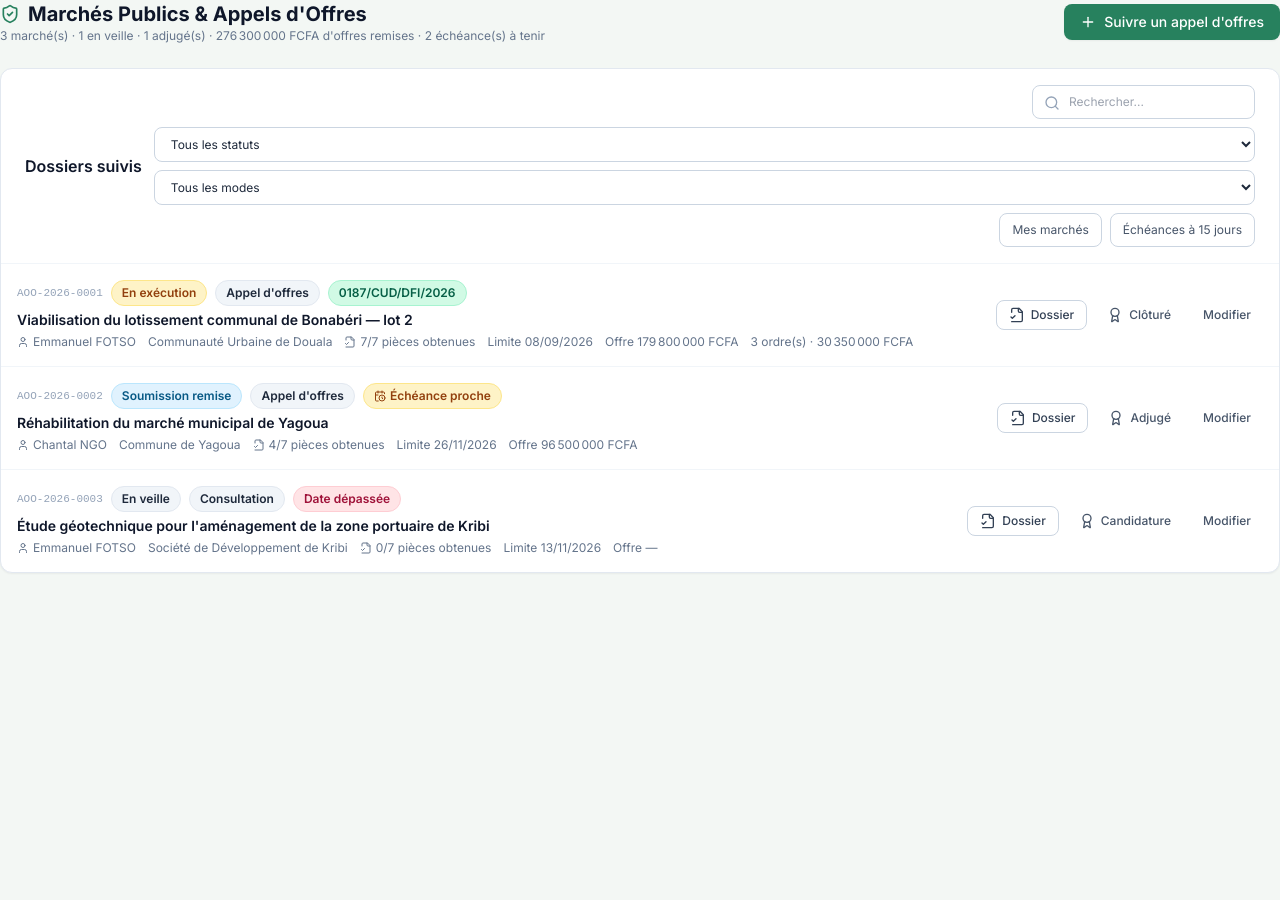
Test: TendersPage en mode démo › fait avancer une pièce du dossier et date son obtention dans le dépôt local
Click the 2nd button "Dossier": x=1043, y=418 [997, 403, 1088, 433]
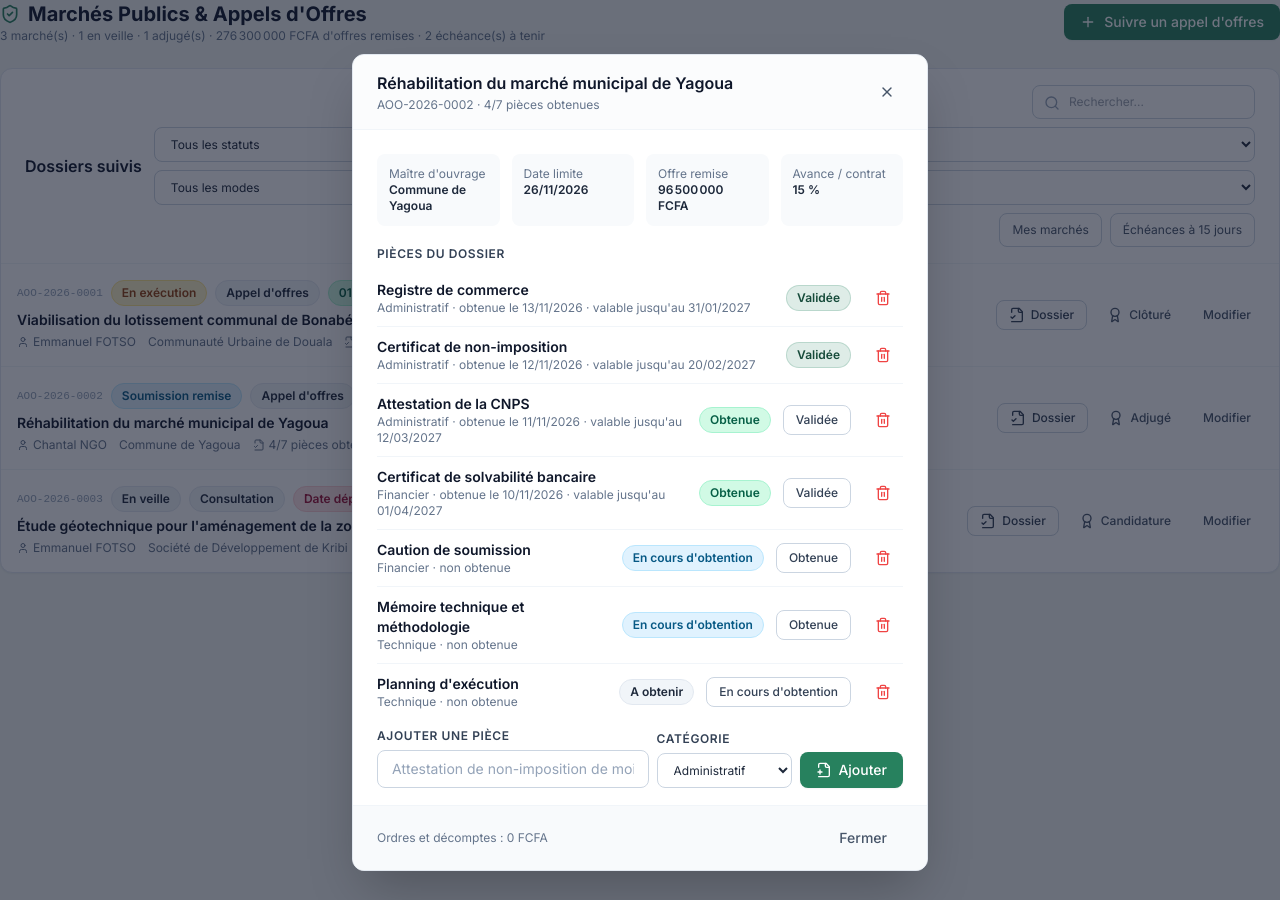
Click the button with aria-label "Faire avancer la pièce Mémoire technique et méthodologie": x=813, y=624 [776, 610, 851, 640]
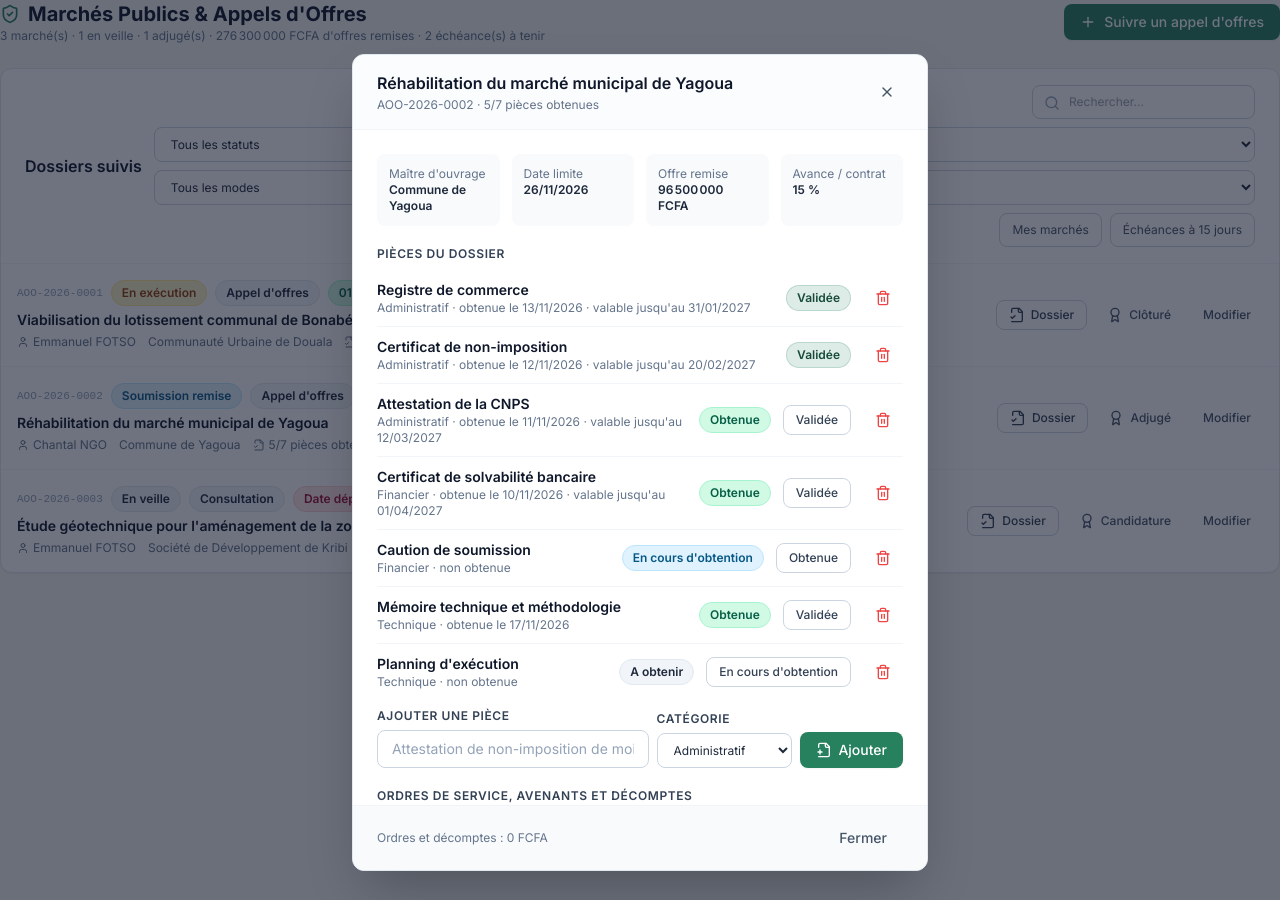
Result: the text "AOO-2026-0002 · 5/7 pièces obtenues" is shown at [377, 96, 599, 112]
